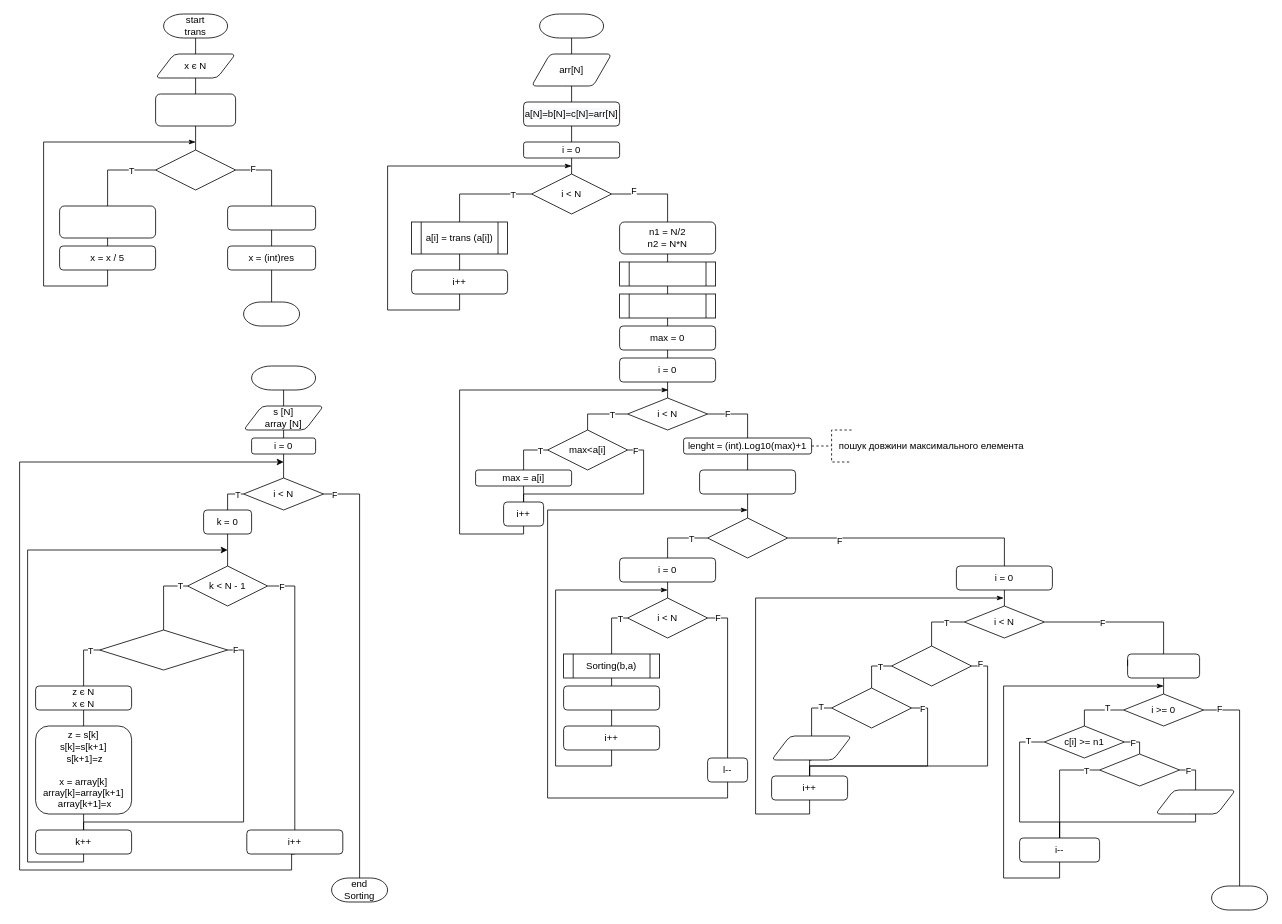
This 1282x924 diagram has some shape labels left out. The shapes that lost their labels are listed below. From the top down, each one's centre as x and y in pixels, then its label:
pixel 571 25: start
pixel 195 109: res = " " ost є N
pixel 195 169: x >= 5
pixel 107 221: ost = x % 5 res = (string)ost + res
pixel 271 217: res = (string)x + res
pixel 667 273: n1 = trans (n1)
pixel 271 313: end trans
pixel 667 305: n2 = trans (n2)
pixel 283 377: start Sorting
pixel 747 481: l = lenght
pixel 747 537: l > 0
pixel 163 649: s [k] %10 > s[k+1] %10
pixel 931 665: a[i] >= n1
pixel 1163 665: i = N - 1
pixel 611 697: b[i] = b[i] / 10
pixel 871 707: a[i] <= n2
pixel 811 747: a[i]
pixel 1139 769: c[i] <= n2
pixel 1195 801: c[i]
pixel 1239 897: end
